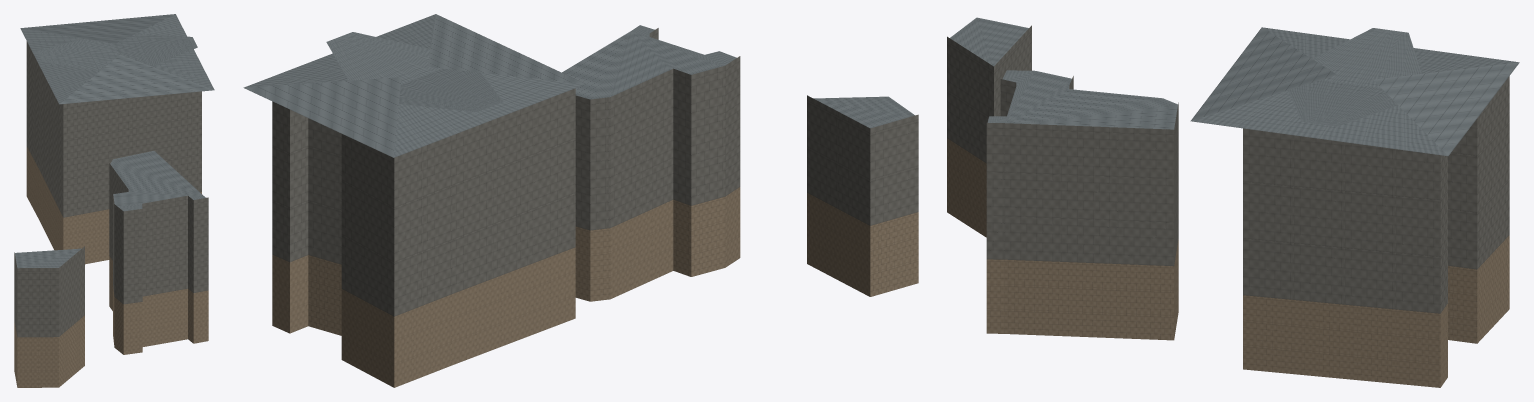
The model's file is bld_c-19_18_519.gltf.
3 views of the same model, side by side, from view 1: azimuth 30°, elevation 25°; view 2: azimuth 150°, elevation 25°; view 3: azimuth 270°, elevation 25° (orthographic). The views are drawn at different scales.
Parts seen in each view (by area): view 1: bld_c-19_18_519; view 2: bld_c-19_18_519; view 3: bld_c-19_18_519.
Boxes of the visible parts, x1,y1,x2,y2 form: bld_c-19_18_519: [14, 14, 214, 387]; bld_c-19_18_519: [243, 14, 918, 387]; bld_c-19_18_519: [947, 17, 1519, 387].
Size of the model in its own units: 33.66 by 19.3 by 35.66.
4 materials, 4 textured.
